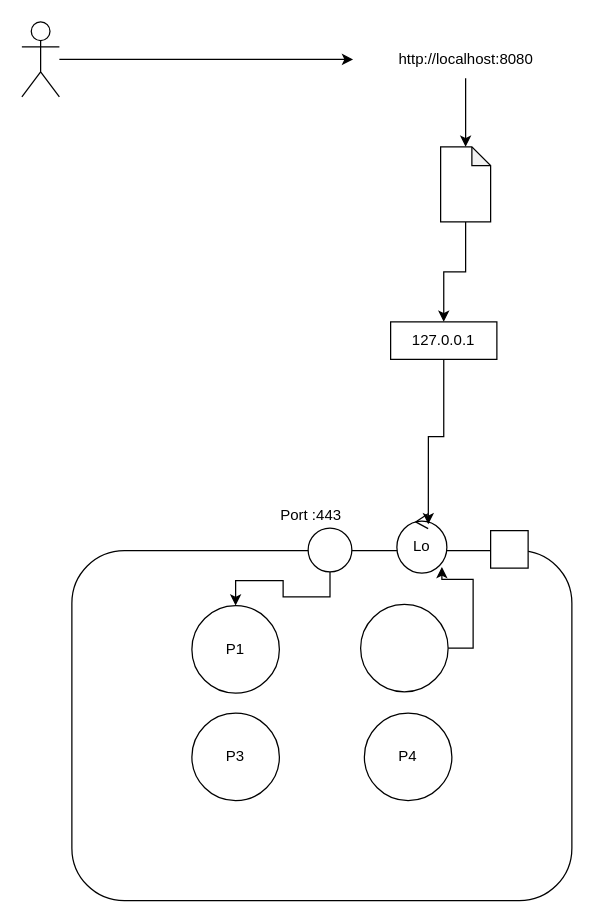
Image size: 594x923. Some labels were removed from this diagram. Each missing label, with the centre of its shape:
"Actor" goes at point (40, 59).
"DNS" goes at point (465, 184).
"P2 : 8080" goes at point (403, 647).
